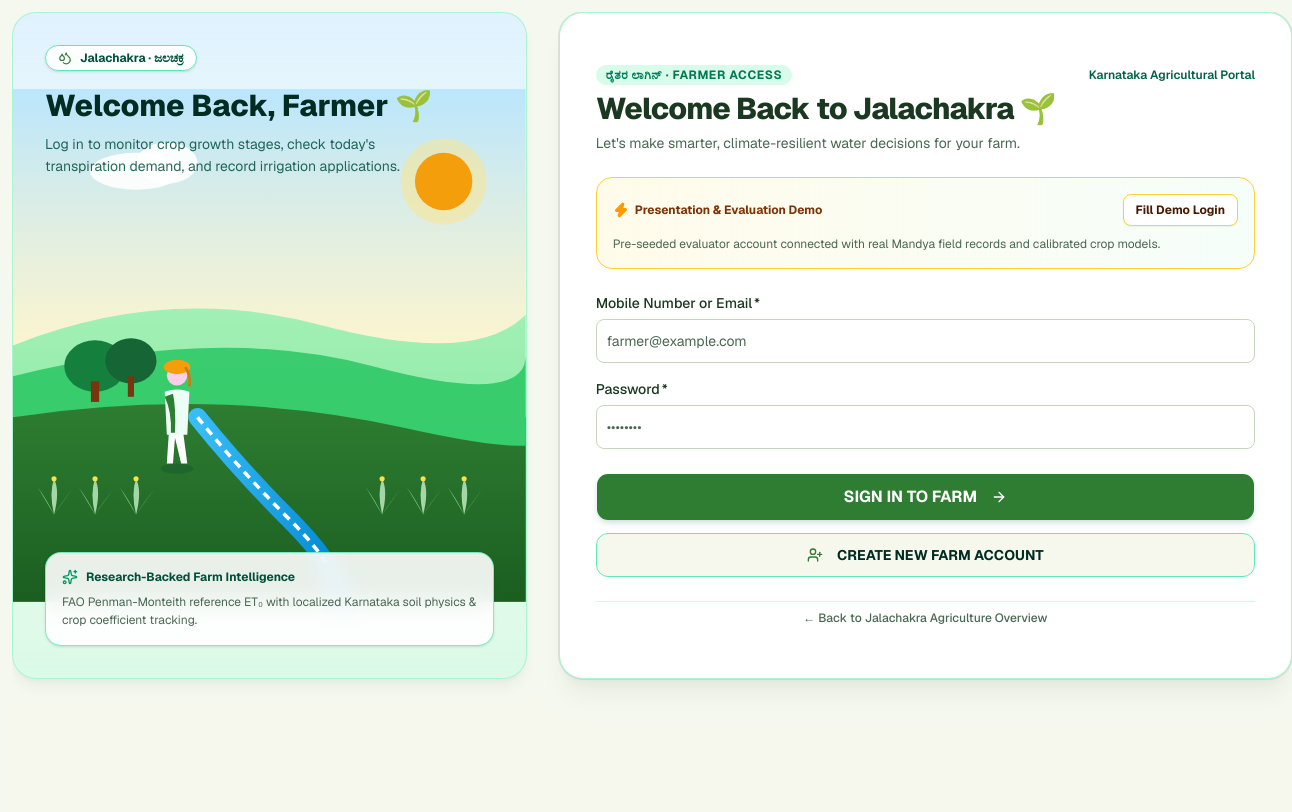
a rejected sign-in › says the server is unreachable rather than failing silently
In the field labelled "Mobile Number or Email*": (925, 341) [596,319,1255,363], type "demo@example.com"
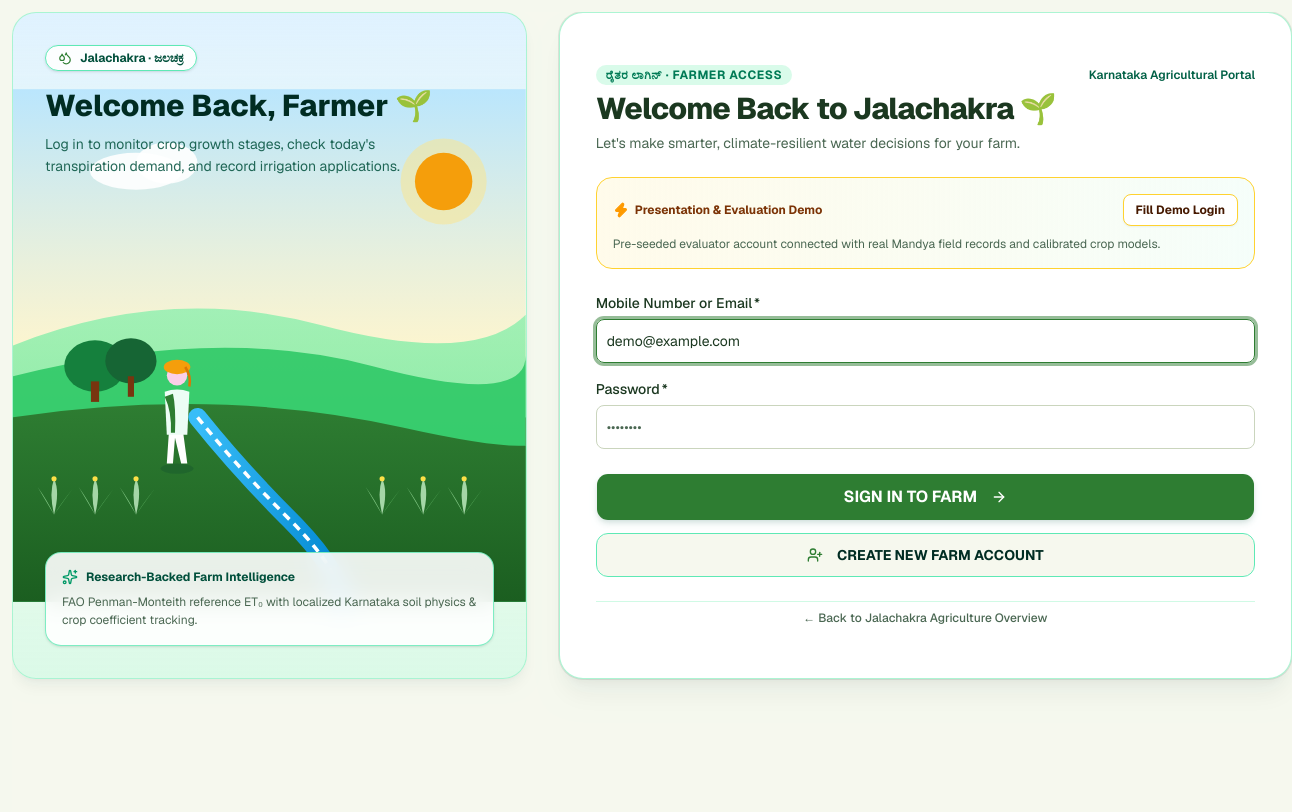
In the password field labelled "Password*": (925, 427) [596,405,1255,449], type "secret123"
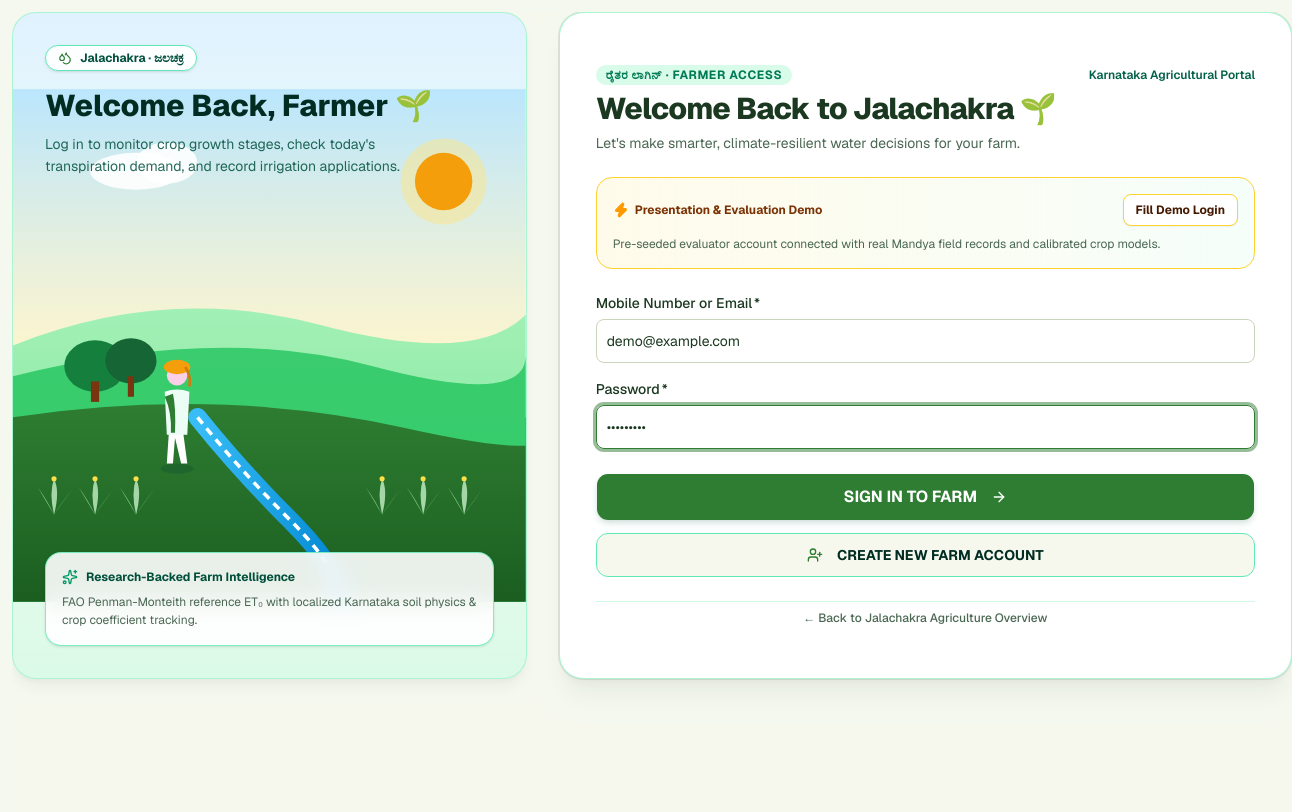
Click the button "SIGN IN TO FARM": (925, 497) [596,473,1255,521]
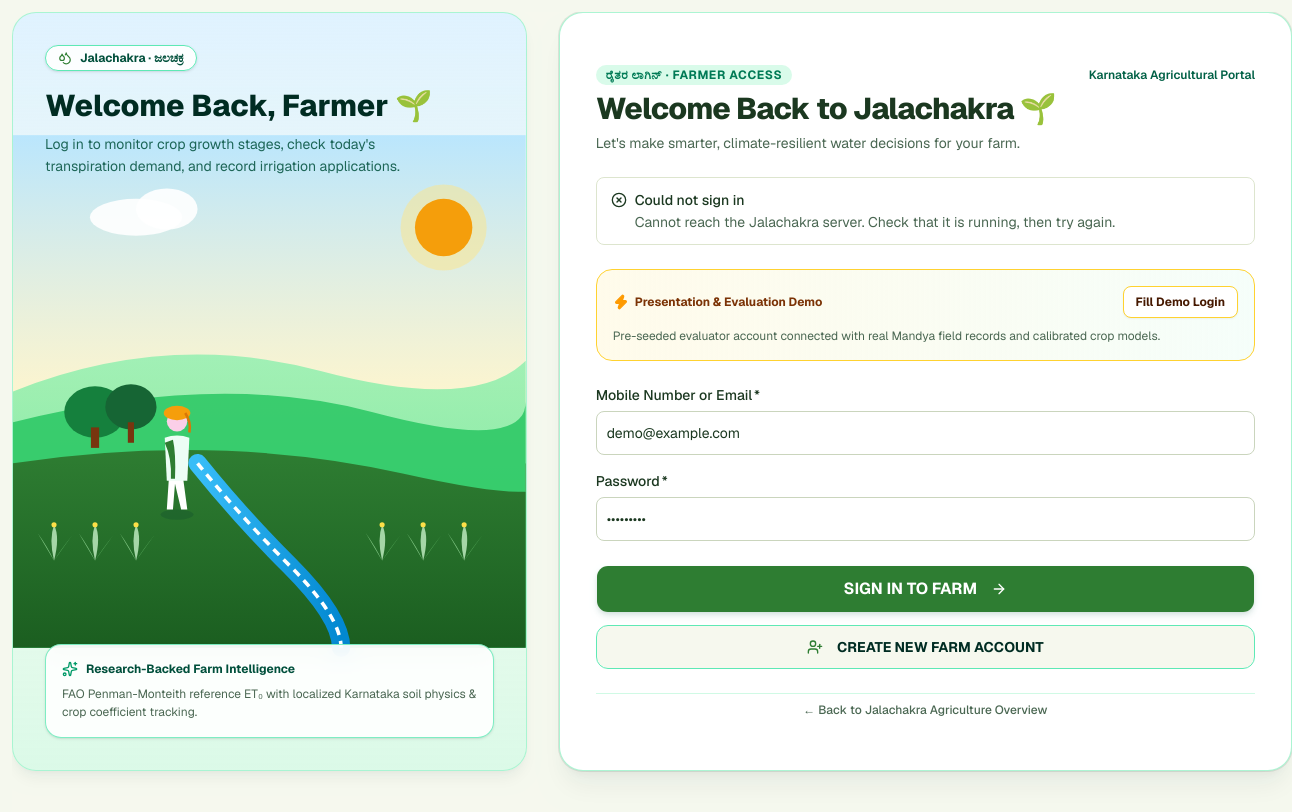
Now the text "Cannot reach the Jalachakra server" is shown, box [635,213,1115,231]
